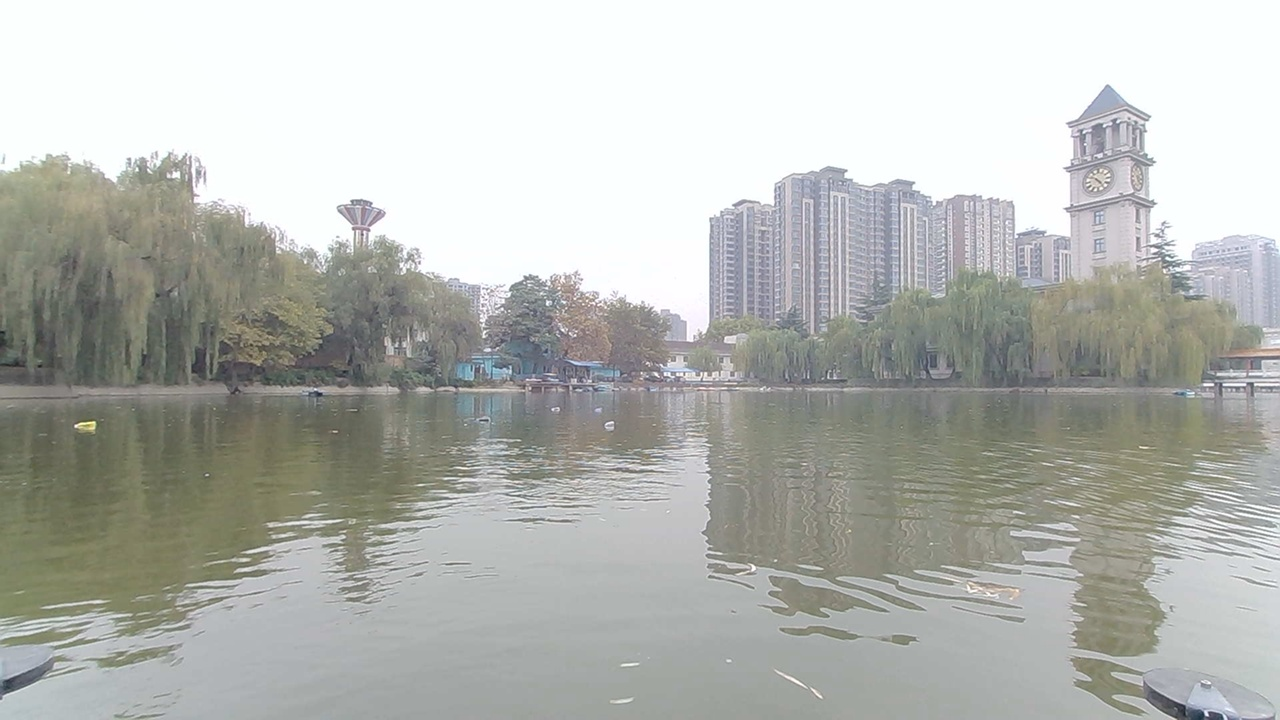bottle: (73, 414, 103, 438), (465, 408, 495, 430), (596, 415, 626, 436), (579, 401, 612, 418), (543, 399, 565, 418)
